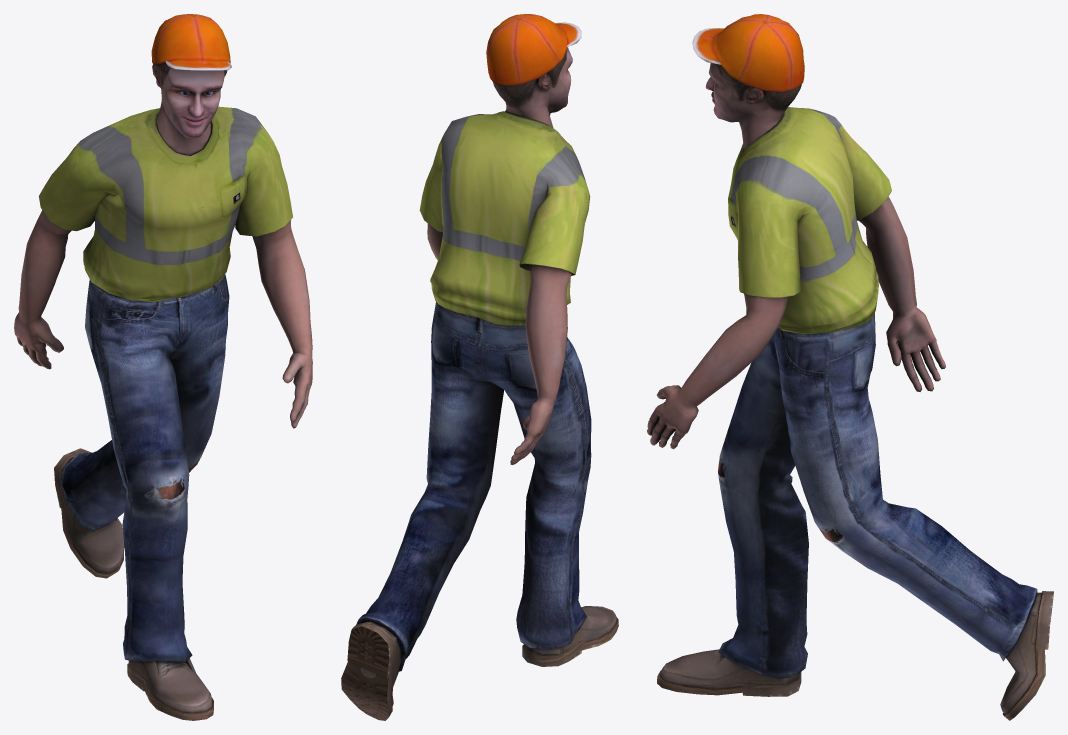
File: SWRK01_05_03.FBX
The picture shows the model from 3 angles, left to right: view 1: azimuth 30°, elevation 25°; view 2: azimuth 150°, elevation 25°; view 3: azimuth 270°, elevation 25°; orthographic projection. The views are drawn at different scales.
Visible parts, largest first — view 1: SWRK01_05_03; view 2: SWRK01_05_03; view 3: SWRK01_05_03.
Boxes of the visible parts, x1,y1,x2,y2 form: SWRK01_05_03: [14, 14, 312, 720]; SWRK01_05_03: [341, 14, 618, 720]; SWRK01_05_03: [647, 14, 1053, 720].
Size of the model in its own units: 22.4 by 68.24 by 36.88.
1 material, 1 textured.
